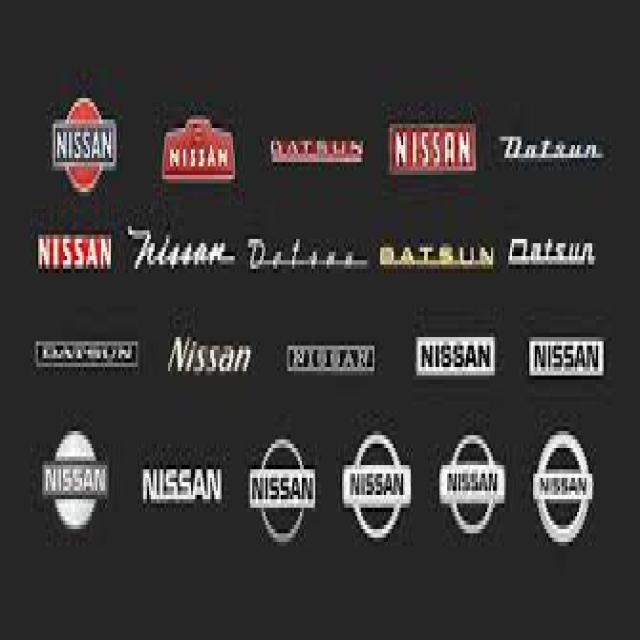nissan: (340, 430, 414, 547), (248, 432, 318, 554), (42, 423, 109, 543), (438, 430, 507, 546), (532, 424, 594, 548)
